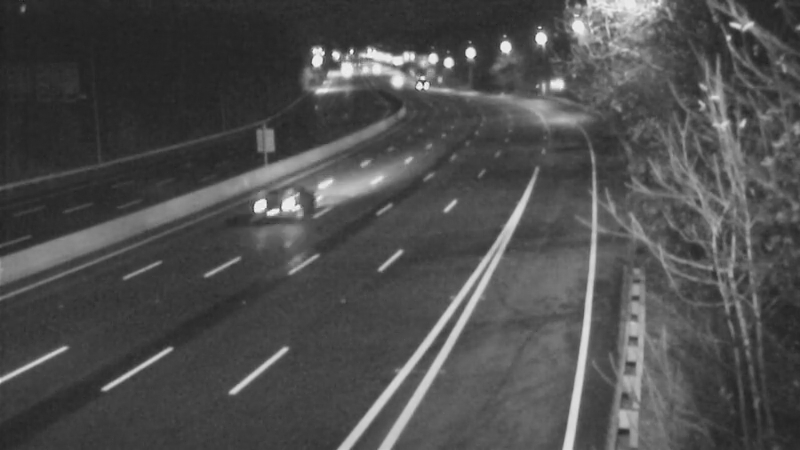vehicle: (228, 163, 308, 243), (371, 55, 421, 105), (394, 56, 444, 106)
